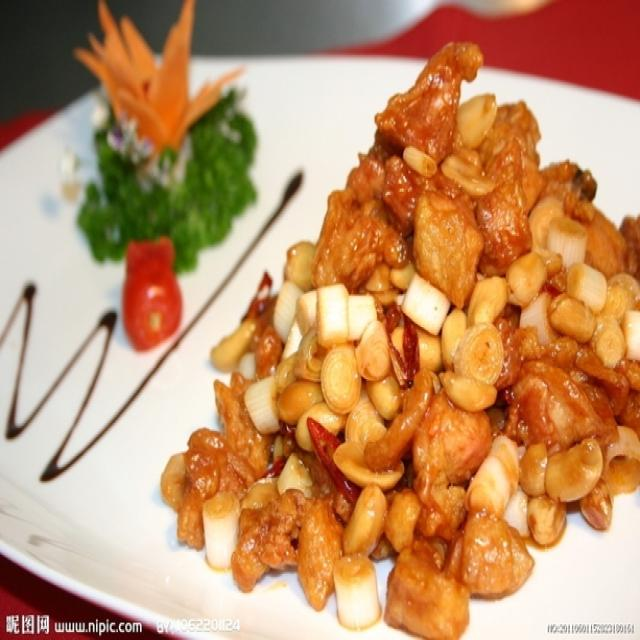鸡肉料理 含炸鸡: (289, 42, 617, 637)
